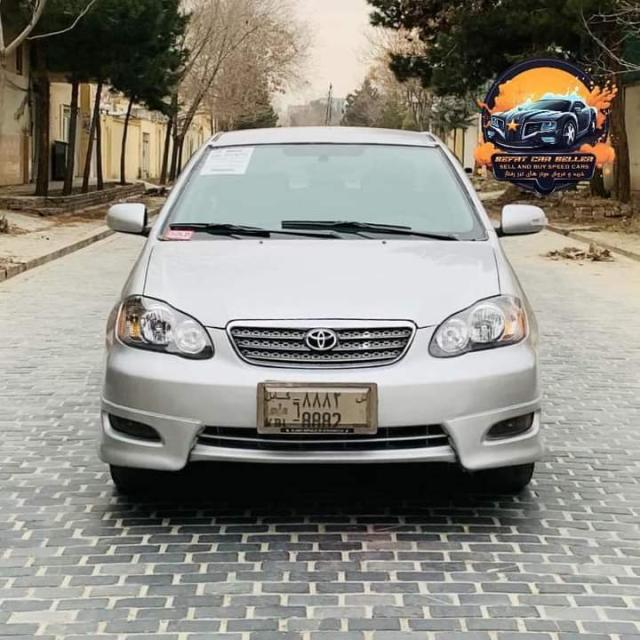Plate: (257, 380, 376, 434)
